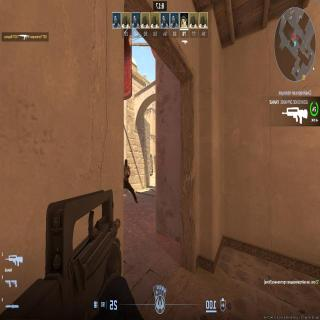T-Body: (123, 158, 133, 198)
T-Head: (123, 159, 129, 168)
